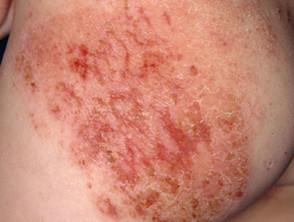Eczema: (15, 49, 45, 89), (116, 89, 153, 118), (53, 84, 90, 112), (115, 158, 143, 193), (66, 43, 92, 78), (103, 28, 130, 61), (166, 120, 195, 149), (136, 49, 158, 79), (221, 60, 251, 82), (198, 119, 219, 148), (94, 194, 118, 219), (75, 17, 101, 39), (151, 142, 169, 172), (161, 9, 181, 33), (186, 198, 208, 219), (97, 151, 120, 171), (224, 117, 243, 141), (164, 171, 182, 196), (217, 90, 239, 110), (132, 6, 155, 25), (223, 154, 248, 171), (90, 96, 114, 113), (28, 111, 44, 136), (75, 123, 95, 143), (183, 61, 202, 82), (216, 33, 235, 54), (225, 177, 244, 196), (165, 87, 185, 105), (264, 42, 279, 66), (189, 97, 206, 117), (128, 140, 147, 157), (212, 197, 229, 216), (145, 188, 163, 205), (265, 25, 281, 44), (196, 177, 215, 192), (51, 42, 62, 66), (165, 49, 185, 62), (242, 34, 257, 51), (78, 156, 94, 171), (169, 201, 185, 215), (265, 96, 278, 113), (102, 127, 120, 139), (144, 209, 160, 222), (55, 138, 68, 153), (264, 160, 279, 172), (281, 148, 291, 161), (81, 183, 90, 189)
